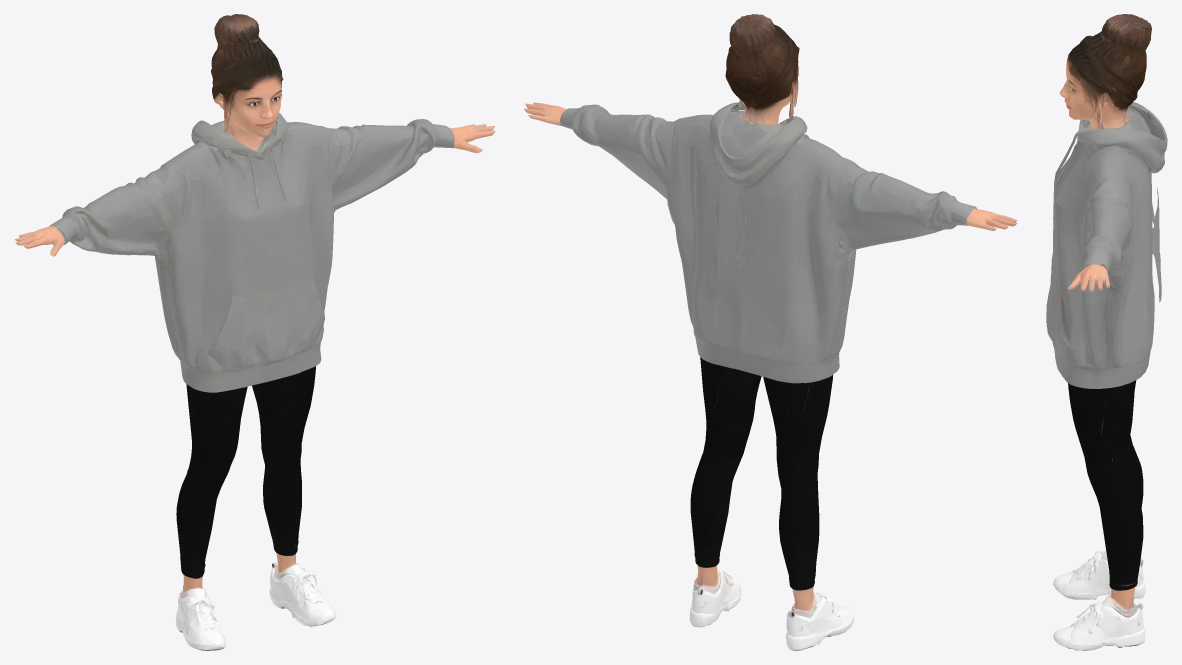
The model's file is ped_student_rigin.glb.
3 views of the same model, side by side, from view 1: azimuth 30°, elevation 25°; view 2: azimuth 150°, elevation 25°; view 3: azimuth 270°, elevation 25° (orthographic). The views are drawn at different scales.
Parts seen in each view (by area): view 1: Mesh_0; view 2: Mesh_0; view 3: Mesh_0.
Boxes of the visible parts, box(x1,y1,x2,y2) form: Mesh_0: box(15, 14, 495, 650); Mesh_0: box(524, 14, 1017, 650); Mesh_0: box(1046, 14, 1167, 650).
Bounding box in the file's own units: 1.59 × 1.9 × 0.3459.
1 material, 1 textured.
